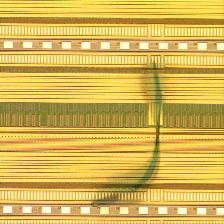COATING BAD: (88, 42, 177, 216)
